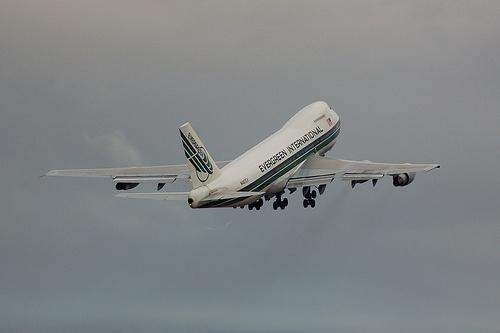aeroplane: (38, 100, 445, 215)
